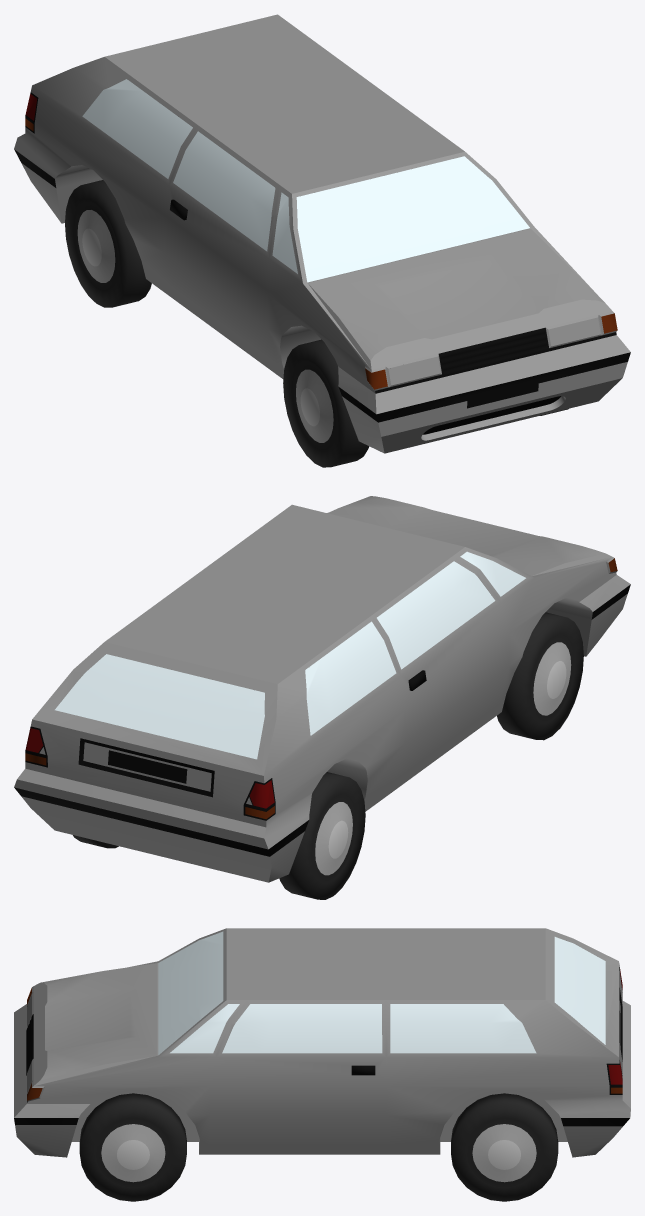
File: TrafficCar5.FBX
3 views of the same model, one above another, from view 1: azimuth 30°, elevation 25°; view 2: azimuth 150°, elevation 25°; view 3: azimuth 270°, elevation 25° (orthographic). The views are drawn at different scales.
Parts seen in each view (by area): view 1: PaintableBody, NotPaintableBody, Wheel_RR, Wheel_FR; view 2: PaintableBody, NotPaintableBody, Wheel_FR, Wheel_RR; view 3: PaintableBody, NotPaintableBody, Wheel_FL, Wheel_RL.
Part boxes in pixels (left/top/right/bottom): PaintableBody: left=14, top=14, right=630, bottom=453; NotPaintableBody: left=14, top=79, right=630, bottom=434; Wheel_RR: left=65, top=180, right=151, bottom=307; Wheel_FR: left=283, top=339, right=369, bottom=467; PaintableBody: left=14, top=496, right=630, bottom=882; NotPaintableBody: left=14, top=551, right=630, bottom=856; Wheel_FR: left=497, top=612, right=583, bottom=740; Wheel_RR: left=279, top=772, right=365, bottom=899; PaintableBody: left=14, top=928, right=630, bottom=1157; NotPaintableBody: left=14, top=931, right=629, bottom=1126; Wheel_FL: left=79, top=1093, right=186, bottom=1201; Wheel_RL: left=451, top=1093, right=558, bottom=1201.
Bounding box in the file's own units: 64.25 × 53.43 × 159.
6 materials, 5 textured.
